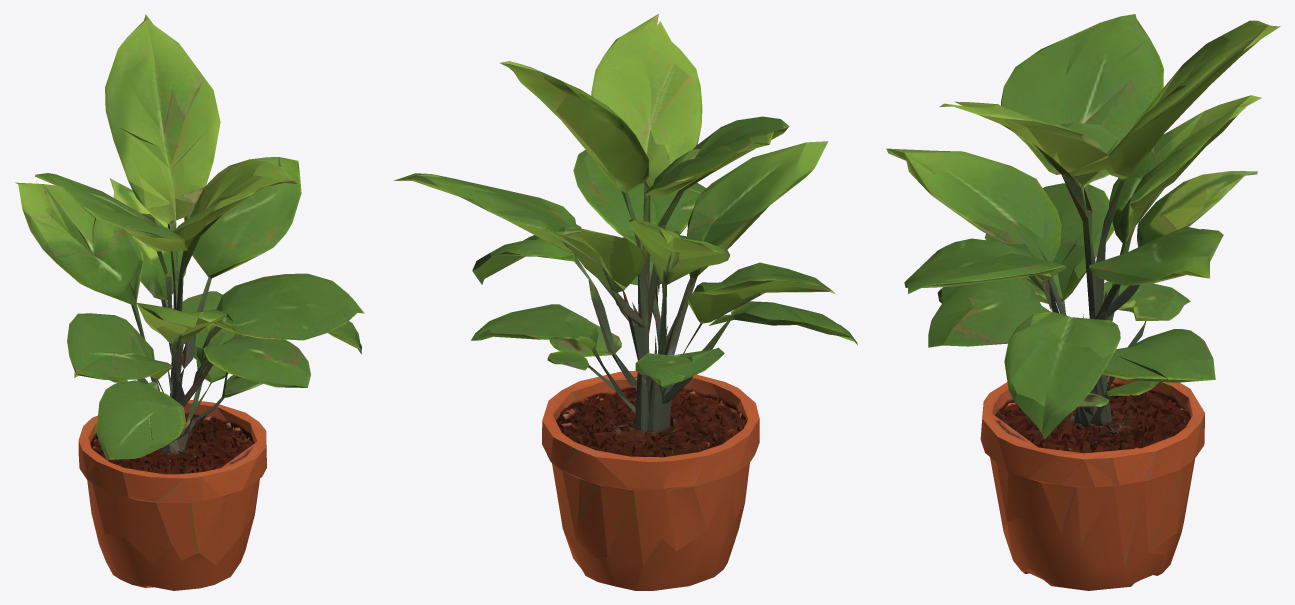
The model's file is plant.glb.
3 renders of one model, left to right at view 1: azimuth 30°, elevation 25°; view 2: azimuth 150°, elevation 25°; view 3: azimuth 270°, elevation 25°, orthographic. The views are drawn at different scales.
Size of the model in its own units: 1.27 by 1.9 by 1.21.
1 material, 1 textured.
